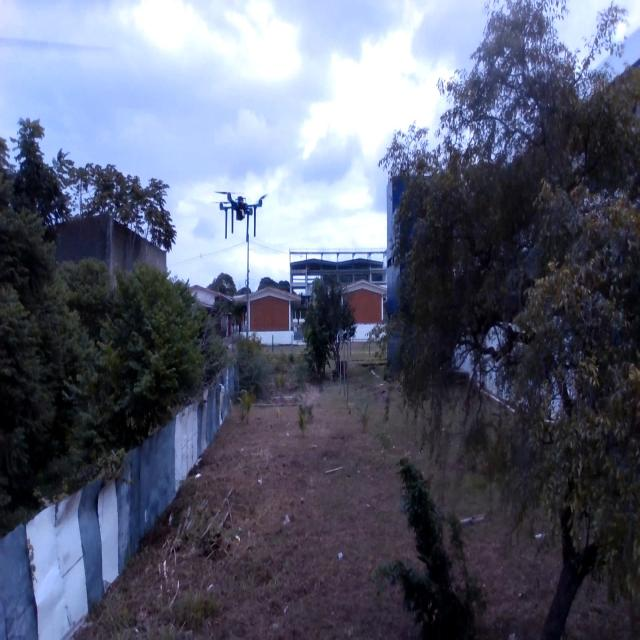-uav-: (211, 178, 272, 247)
